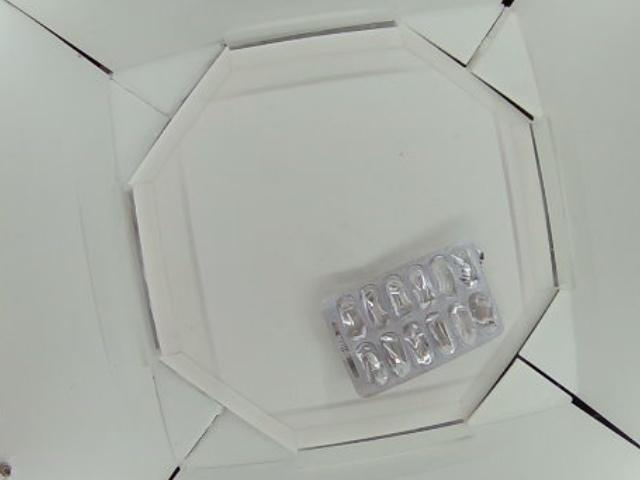Medicine: (318, 244, 504, 400)
